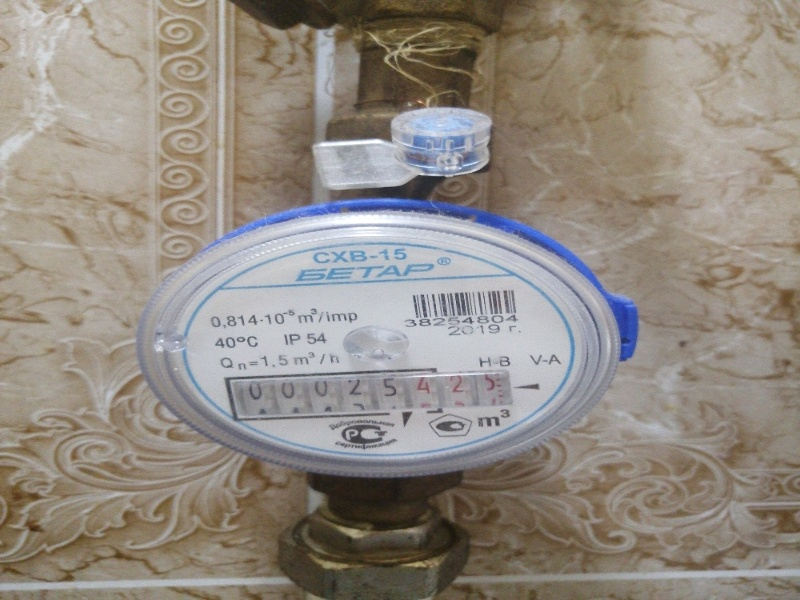meter: (234, 373, 507, 407)
